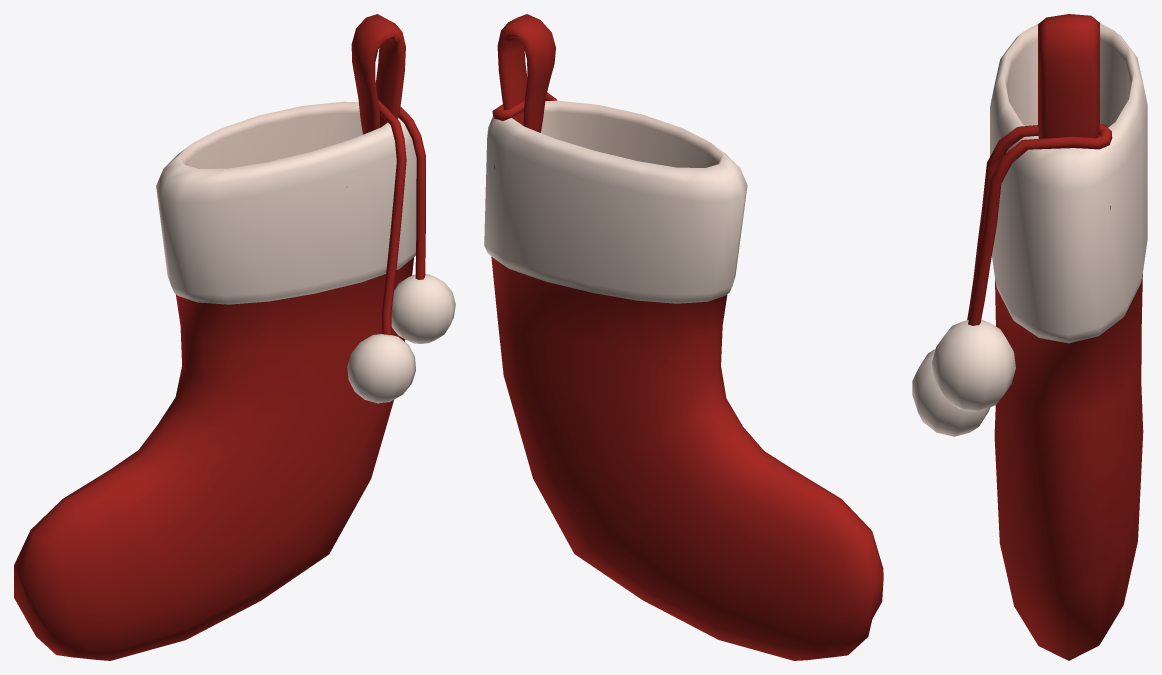
File: Sock.fbx
3 renders of one model, left to right at view 1: azimuth 30°, elevation 25°; view 2: azimuth 150°, elevation 25°; view 3: azimuth 270°, elevation 25°, orthographic. The views are drawn at different scales.
Visible parts, largest first — view 1: sOCK; view 2: sOCK; view 3: sOCK.
Part boxes in pixels (left/top/right/bottom): sOCK: left=14, top=14, right=455, bottom=660; sOCK: left=484, top=14, right=883, bottom=660; sOCK: left=912, top=14, right=1147, bottom=660.
Size of the model in its own units: 5.44 by 7.46 by 2.13.
1 material, 1 textured.
